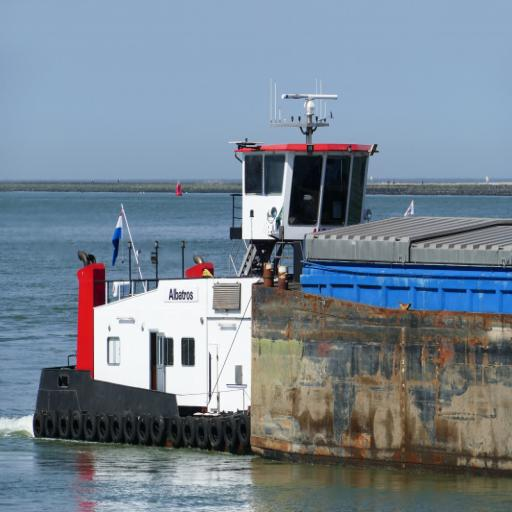tugboat: (31, 91, 380, 461)
